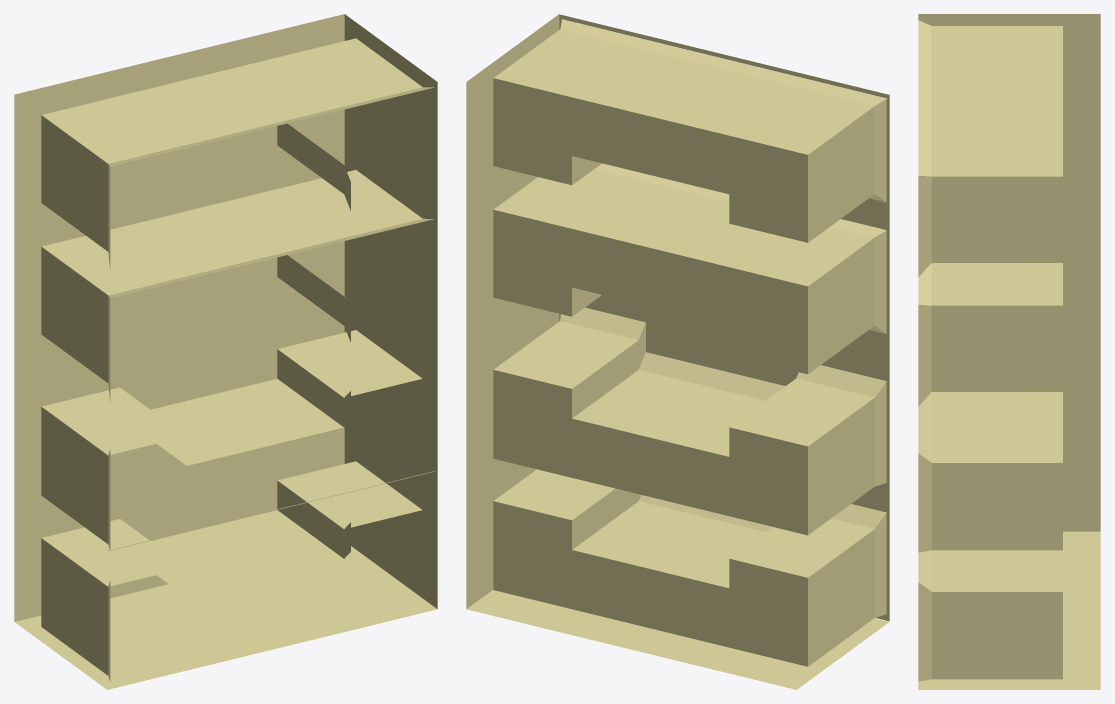
The model's file is hamilton_core_gripper_1000ul_5ml_on_waste.glb.
The picture shows the model from 3 angles, left to right: view 1: azimuth 30°, elevation 25°; view 2: azimuth 150°, elevation 25°; view 3: azimuth 270°, elevation 25°; orthographic projection.
Parts seen in each view (by area): view 1: block; view 2: block; view 3: block.
Boxes of the visible parts, x1=… form: block: x1=14, y1=14, x2=437, y2=689; block: x1=466, y1=14, x2=889, y2=689; block: x1=918, y1=14, x2=1100, y2=689.
Bounding box in the file's own units: 0.04 × 0.061 × 0.0195.
